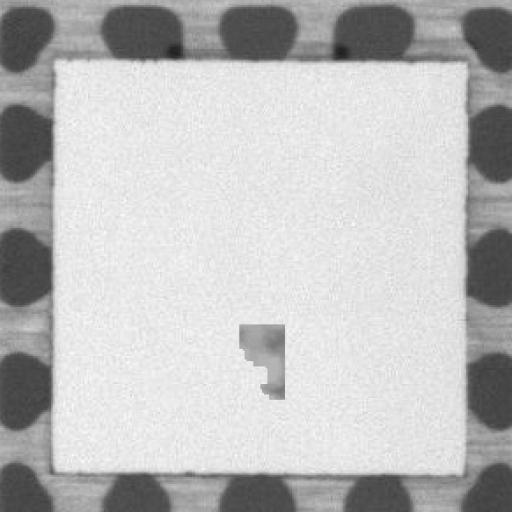DIE_INK: (237, 324, 282, 410)
